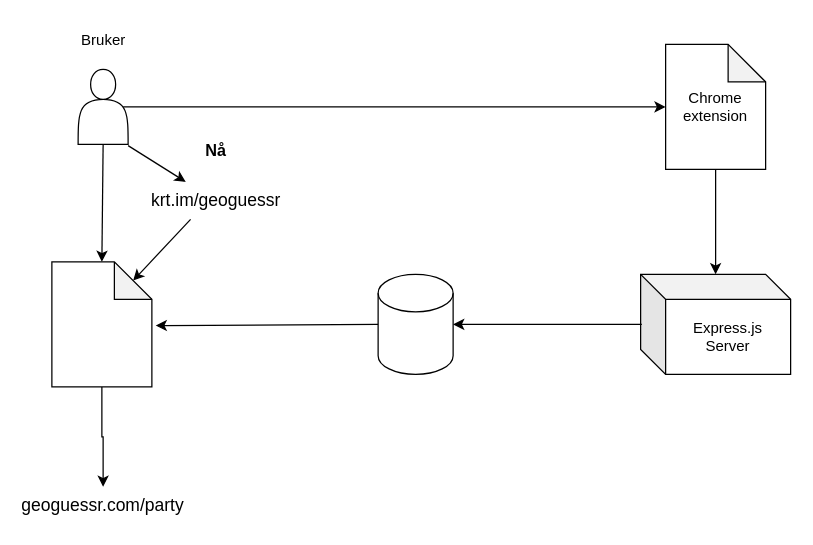
The diagram is 813 pixels wide and 545 high, and some of its shapes have lost their labels. The centre of each missing label's shape, as x and y in pixels:
Nettside Next.js: [101,324]
SQL Database: [415,323]
